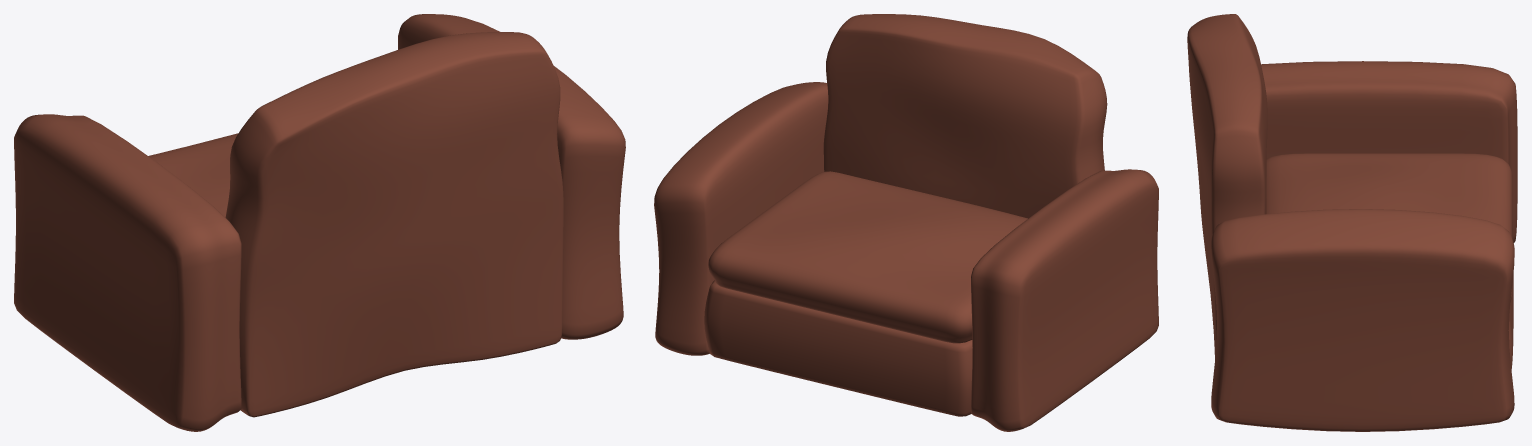
Rendered from Chair.fbx.
3 views of the same model, side by side, from view 1: azimuth 30°, elevation 25°; view 2: azimuth 150°, elevation 25°; view 3: azimuth 270°, elevation 25° (orthographic). The views are drawn at different scales.
Parts seen in each view (by area): view 1: Couch_Back, Couch_Arm.R, Couch_Arm.L, Couch_Cusion; view 2: Couch_Back, Couch_Arm.R, Couch_Cusion, Couch_Arm.L, Couch_Base; view 3: Couch_Arm.L, Couch_Arm.R, Couch_Back, Couch_Cusion, Couch_Base.
Part boxes in pixels (x1=…): Couch_Back: x1=225, y1=32, x2=563, y2=417; Couch_Arm.R: x1=14, y1=114, x2=241, y2=431; Couch_Arm.L: x1=398, y1=14, x2=625, y2=339; Couch_Cusion: x1=148, y1=133, x2=238, y2=217; Couch_Back: x1=823, y1=14, x2=1107, y2=218; Couch_Arm.R: x1=971, y1=169, x2=1158, y2=431; Couch_Cusion: x1=708, y1=171, x2=1027, y2=343; Couch_Arm.L: x1=654, y1=82, x2=828, y2=355; Couch_Base: x1=704, y1=280, x2=972, y2=416; Couch_Arm.L: x1=1211, y1=209, x2=1514, y2=431; Couch_Arm.R: x1=1261, y1=61, x2=1517, y2=242; Couch_Back: x1=1187, y1=14, x2=1267, y2=358; Couch_Cusion: x1=1266, y1=153, x2=1512, y2=302; Couch_Base: x1=1508, y1=222, x2=1513, y2=369.
Size of the model in its own units: 257 by 179 by 186.
